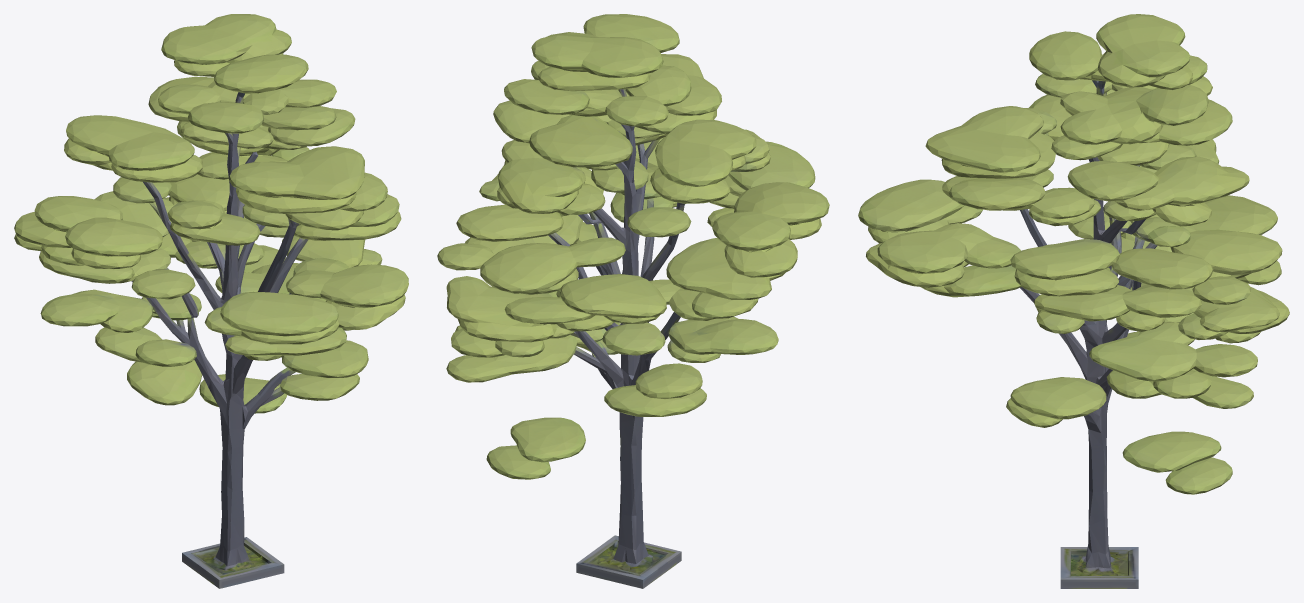
Rendered from zelkova_tree.glb.
The picture shows the model from 3 angles, left to right: view 1: azimuth 30°, elevation 25°; view 2: azimuth 150°, elevation 25°; view 3: azimuth 270°, elevation 25°; orthographic projection. The views are drawn at different scales.
Parts seen in each view (by area): view 1: zelkova_tree; view 2: zelkova_tree; view 3: zelkova_tree.
Boxes of the visible parts, left/top/right/bottom form: zelkova_tree: left=14, top=14, right=408, bottom=588; zelkova_tree: left=437, top=14, right=829, bottom=588; zelkova_tree: left=858, top=14, right=1289, bottom=588.
Bounding box in the file's own units: 5.98 × 9 × 6.53.
Materials: 1 (1 with a texture image).
